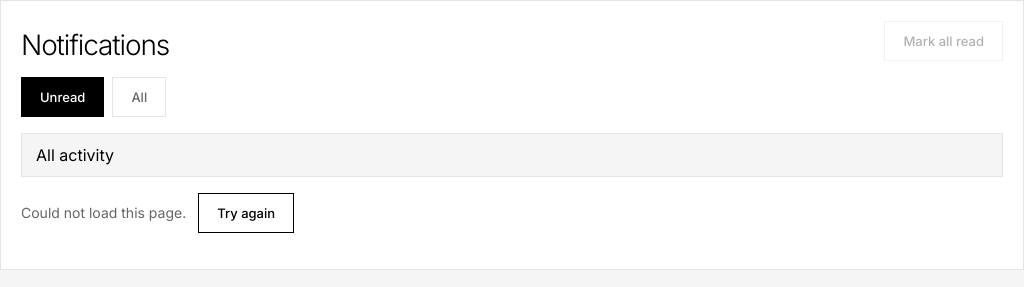
Scenario: shows a failed notification request separately from an empty inbox and allows retry
Expected: the message shows "Could not load", top-left (21, 204), bottom-right (186, 221)
Expected: the text "No notifications here." is not shown
Click the button "Try again".
click(246, 213)  # box top-left (198, 193), bottom-right (294, 233)
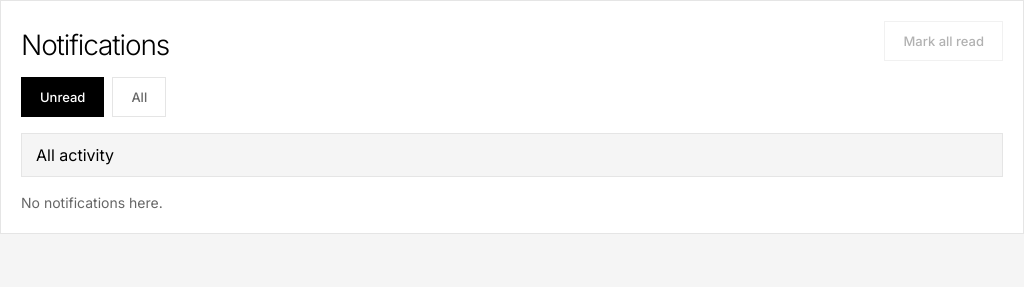
Expected: the text "No notifications here." is shown, top-left (21, 194), bottom-right (163, 211)
